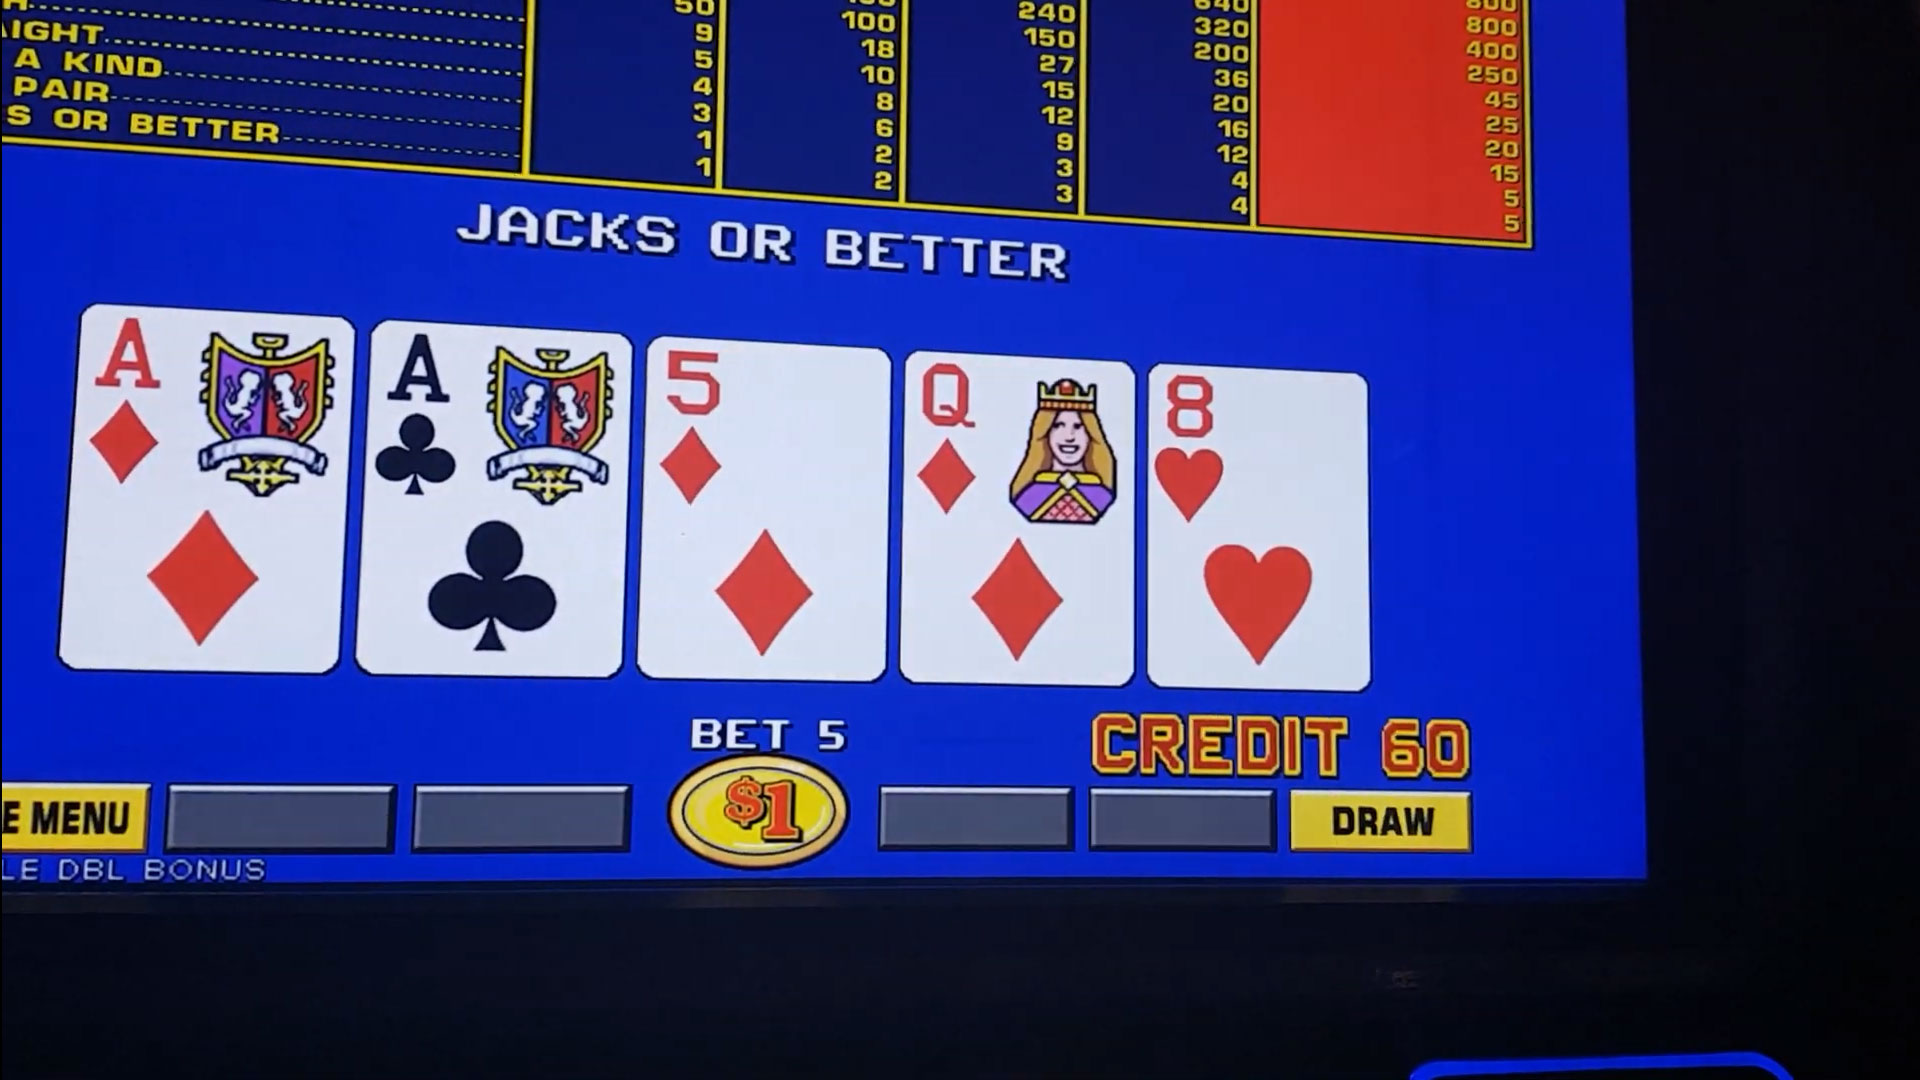CA: (380, 334, 626, 512)
D5: (655, 349, 882, 521)
DA: (87, 318, 344, 502)
DQ: (913, 361, 1131, 531)
H8: (1150, 373, 1360, 538)
